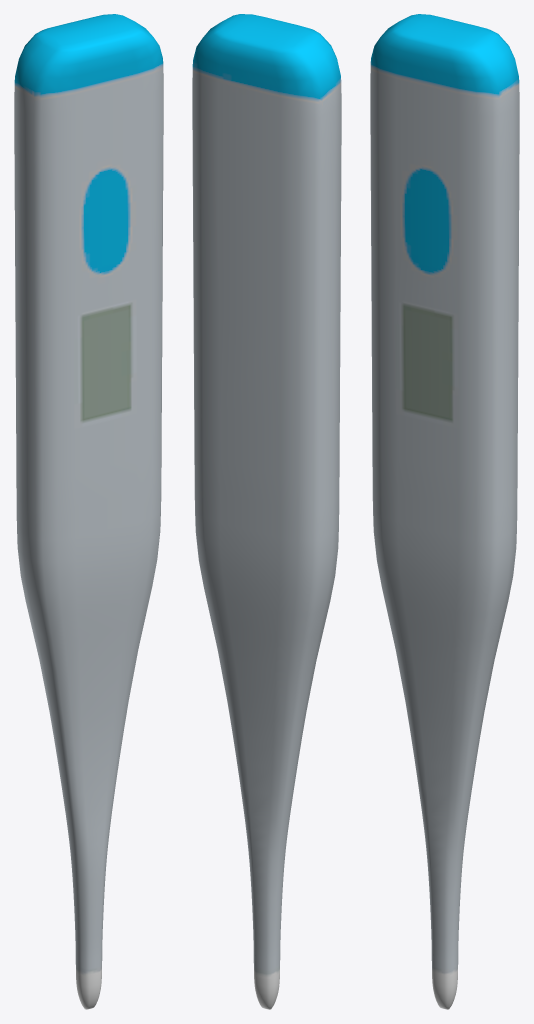
Rendered from SM_Thermometer.glb.
3 renders of one model, left to right at view 1: azimuth 30°, elevation 25°; view 2: azimuth 150°, elevation 25°; view 3: azimuth 330°, elevation 25°, orthographic.
Visible parts, largest first — view 1: SM_Thermometer; view 2: SM_Thermometer; view 3: SM_Thermometer.
Boxes of the visible parts, box(x1,y1,x2,y2) form: SM_Thermometer: box(14, 14, 163, 1009); SM_Thermometer: box(192, 14, 341, 1009); SM_Thermometer: box(370, 14, 519, 1009).
Size of the model in its own units: 0.026 by 0.1788 by 0.0118.
Materials: 1 (1 with a texture image).
